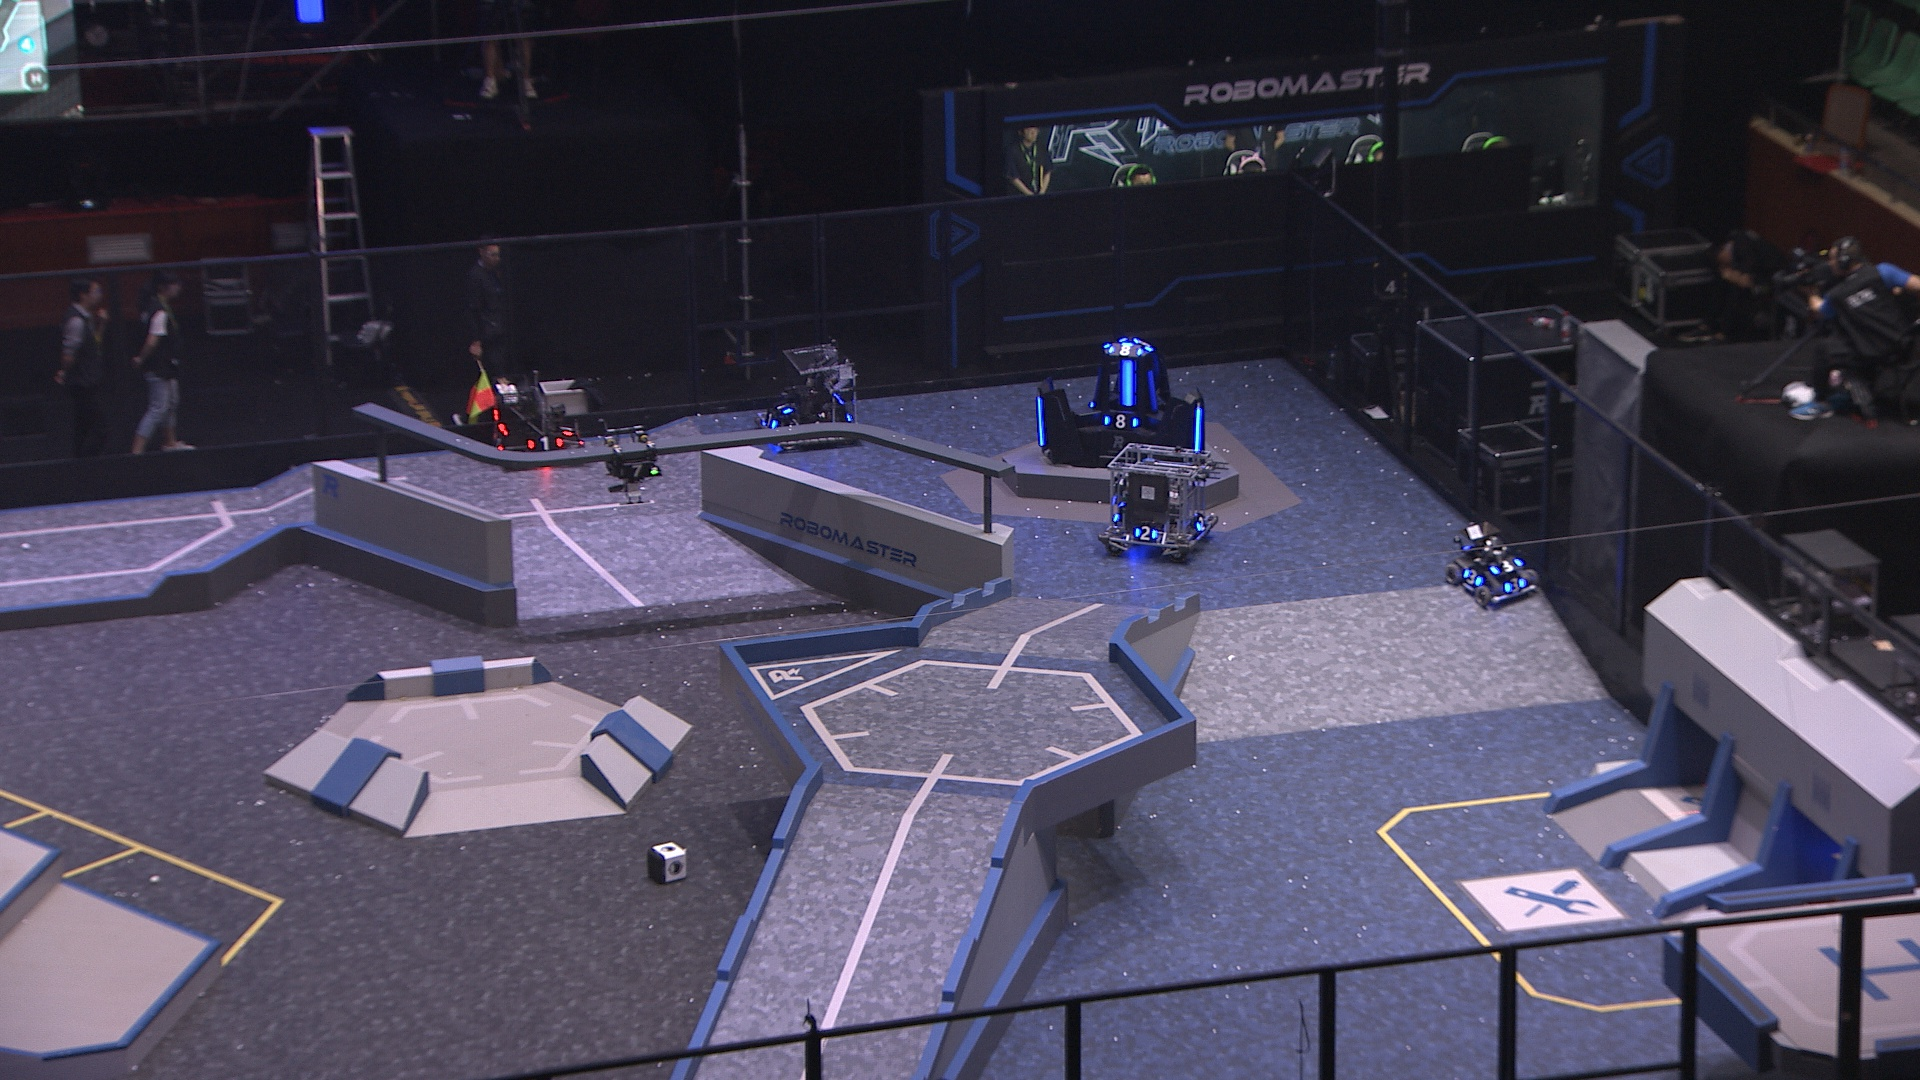armor: (1120, 357, 1139, 411), (1031, 390, 1048, 447), (1191, 404, 1209, 455), (524, 433, 567, 452), (1487, 553, 1523, 576), (615, 460, 657, 480), (1101, 413, 1139, 431), (1106, 342, 1145, 357), (1462, 566, 1486, 589), (1503, 575, 1528, 595), (1147, 367, 1159, 407), (1131, 524, 1156, 542), (760, 409, 778, 431), (556, 419, 578, 438), (775, 396, 793, 418), (491, 431, 508, 454), (1134, 335, 1154, 353), (1195, 514, 1207, 533)
base: (1029, 330, 1211, 471)
car: (1101, 436, 1222, 560), (752, 342, 866, 454), (1444, 518, 1542, 612), (485, 378, 584, 460)
watcher: (597, 414, 662, 504)
